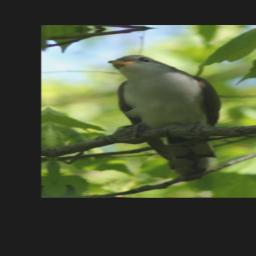Cuckoo: (106, 53, 229, 182)
